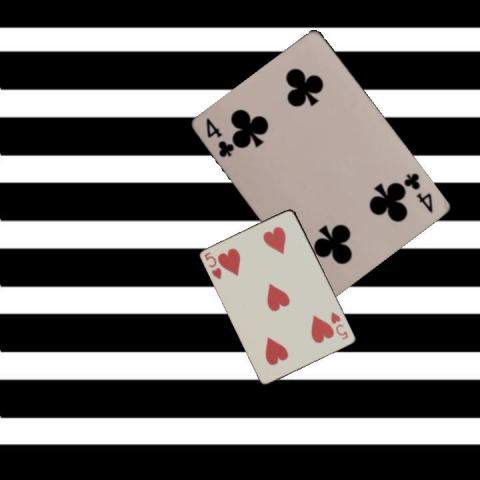4c: (402, 170, 436, 214), (203, 115, 236, 159)
5h: (328, 309, 350, 341), (202, 249, 223, 281)
